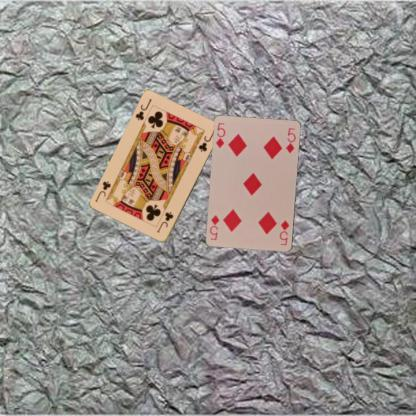5d: (276, 218, 290, 247), (214, 120, 226, 150)
Jc: (133, 96, 153, 122), (154, 210, 174, 234)
